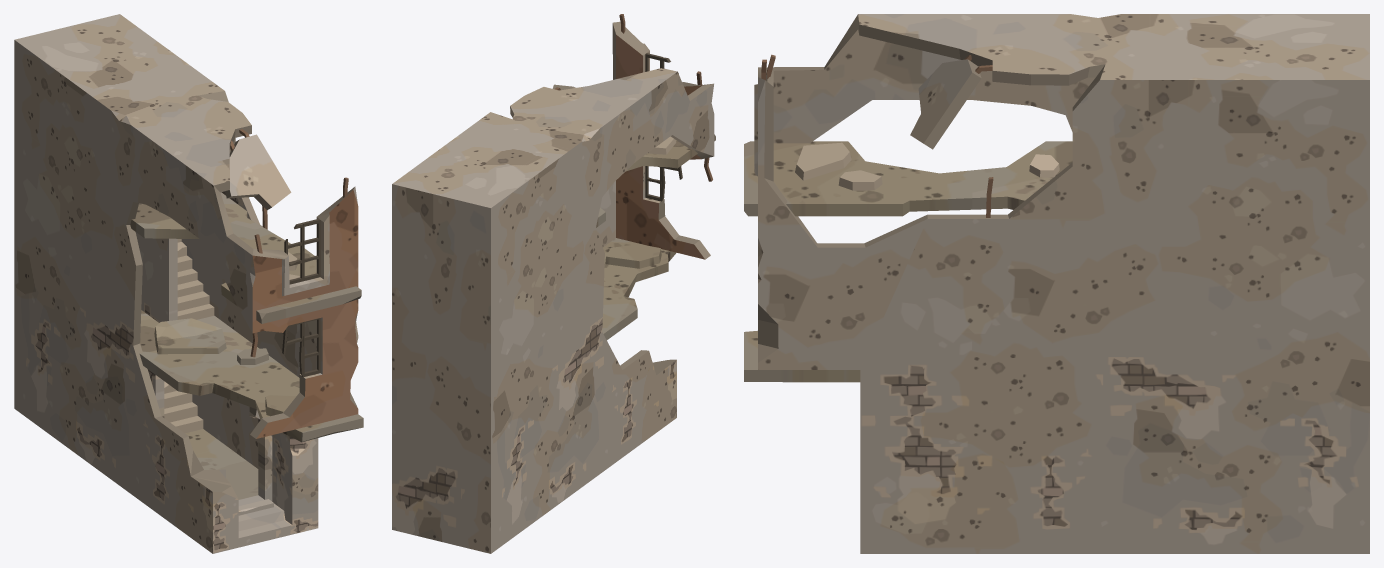
The model's file is SM_Bld_Shop_03_Destroyed.fbx.
The picture shows the model from 3 angles, left to right: view 1: azimuth 30°, elevation 25°; view 2: azimuth 150°, elevation 25°; view 3: azimuth 270°, elevation 25°; orthographic projection. The views are drawn at different scales.
Parts seen in each view (by area): view 1: SM_Bld_Shop_03_Destroyed; view 2: SM_Bld_Shop_03_Destroyed; view 3: SM_Bld_Shop_03_Destroyed.
Part boxes in pixels (bbox=[...]): SM_Bld_Shop_03_Destroyed: bbox=[14, 14, 363, 553]; SM_Bld_Shop_03_Destroyed: bbox=[392, 14, 715, 553]; SM_Bld_Shop_03_Destroyed: bbox=[744, 14, 1369, 553].
Bounding box in the file's own units: 307 × 1057 × 1230.
